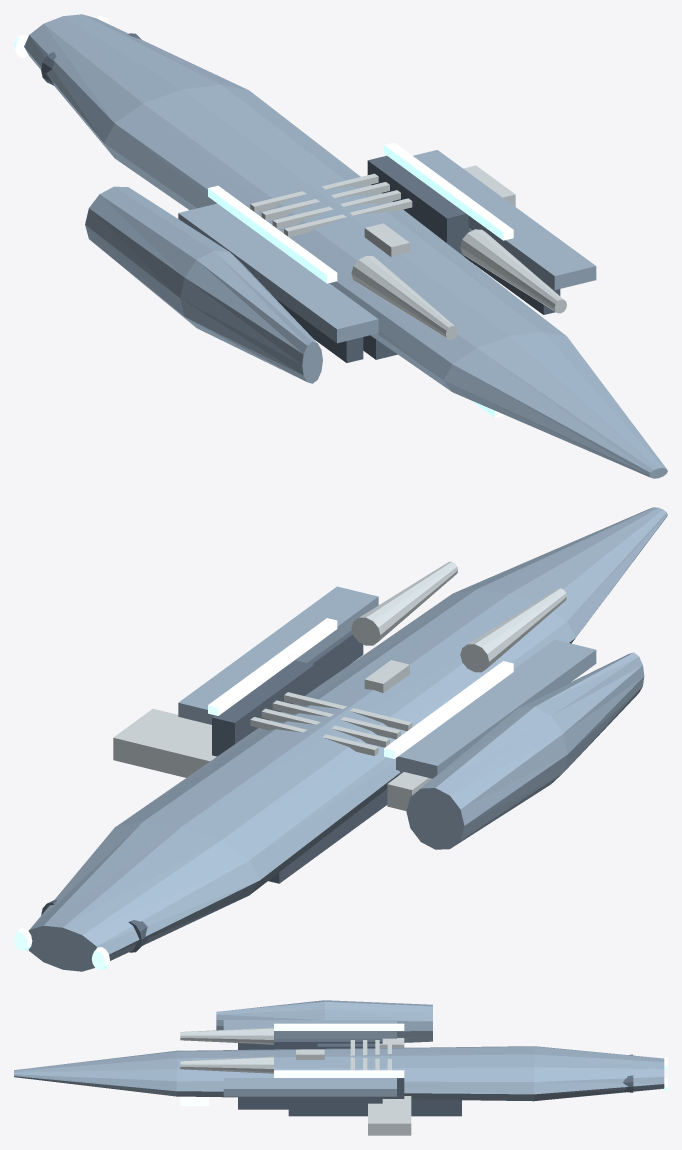
3 views of the same model, one above another, from view 1: azimuth 30°, elevation 25°; view 2: azimuth 150°, elevation 25°; view 3: azimuth 270°, elevation 25° (orthographic). The views are drawn at different scales.
Bounding box in the file's own units: 6.15 × 1.87 × 17.01.
